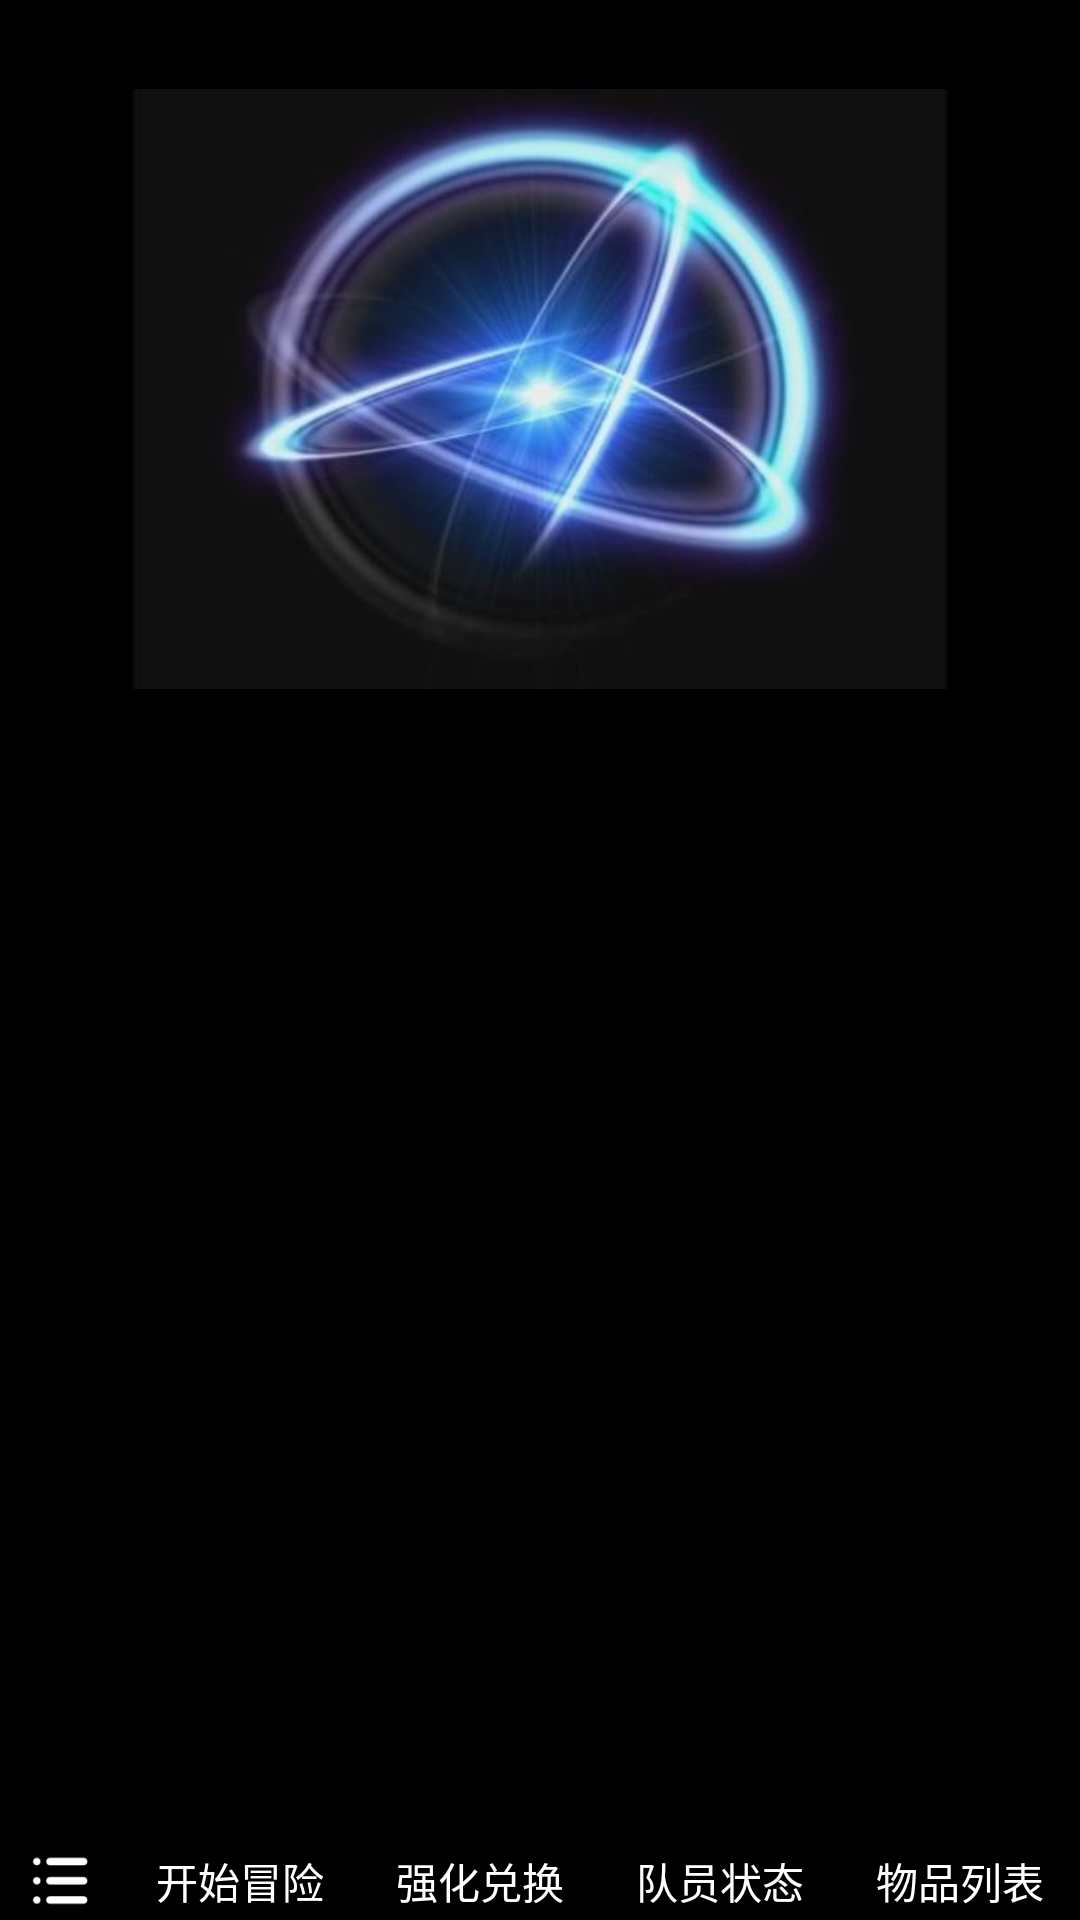

Named icons in this screenshot (1080*1920) and their centers, [x,y]:
menu: [60,1881]
